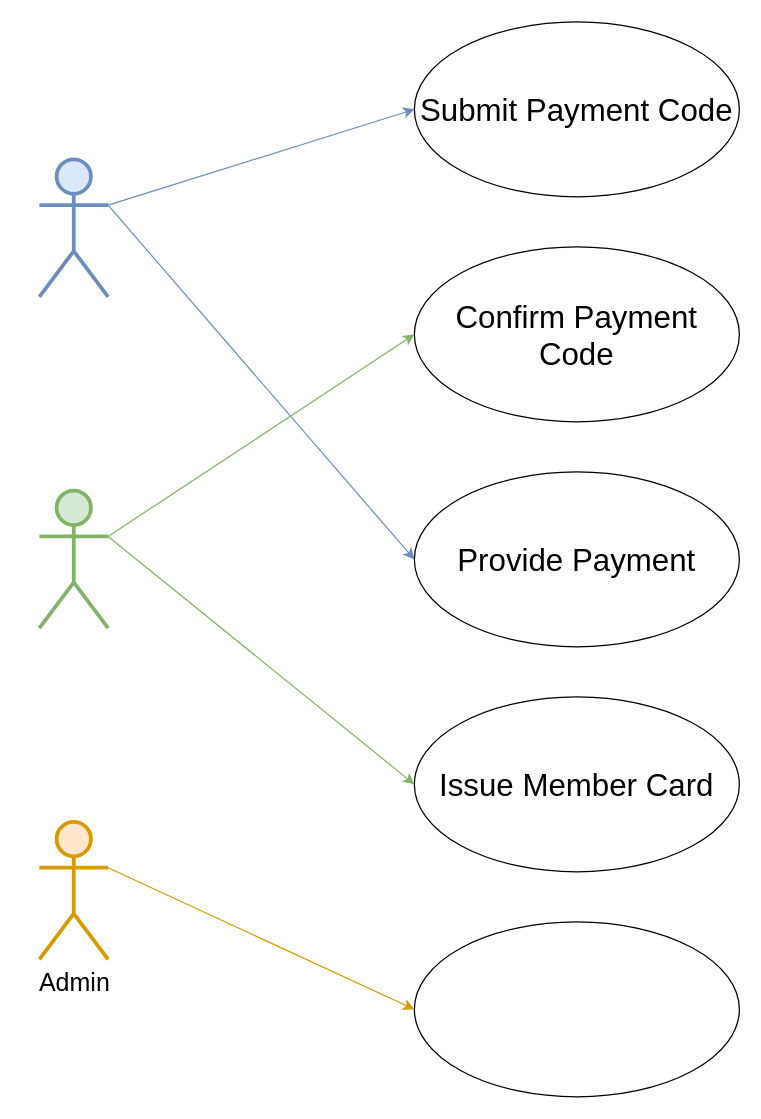
The diagram is 761 pixels wide and 1119 high, and some of its shapes have lost their labels. The box of each missing label's shape, as (x1, y1, x2, y2) in pixels:
Customer: (37, 157, 109, 298)
Staff: (37, 488, 109, 629)
View Reports: (413, 921, 739, 1097)
